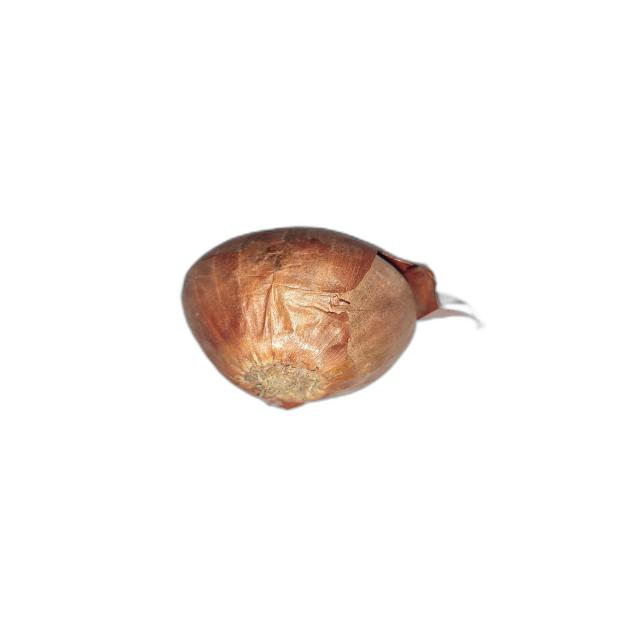onion: (182, 227, 442, 410)
